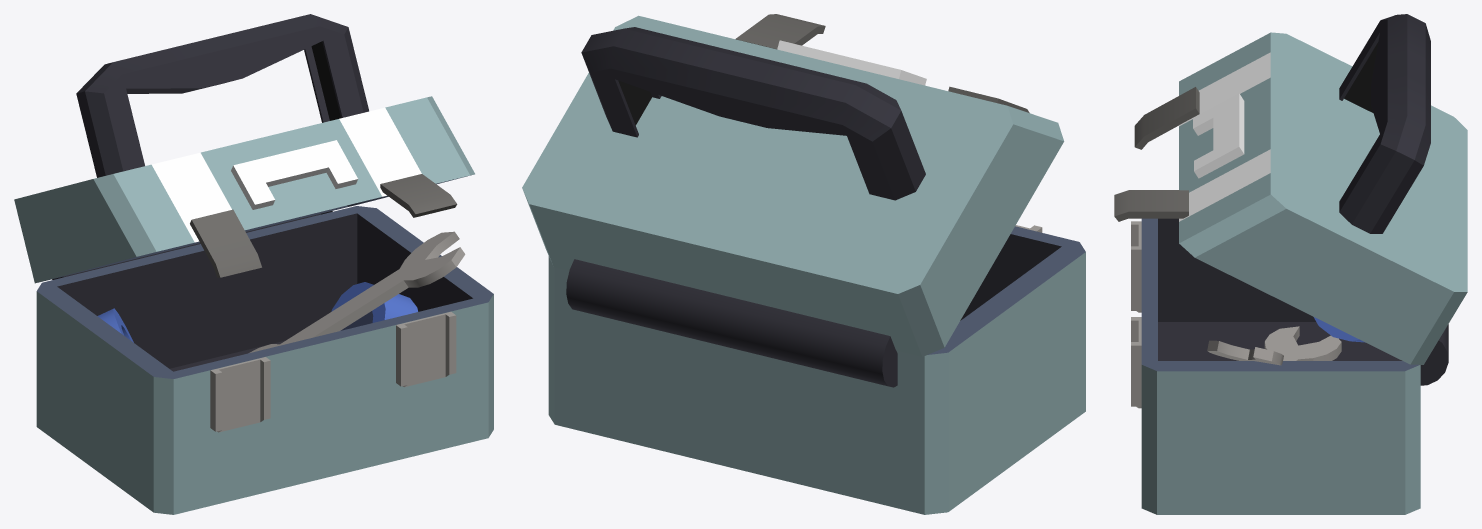
File: DRK.fbx
The picture shows the model from 3 angles, left to right: view 1: azimuth 30°, elevation 25°; view 2: azimuth 150°, elevation 25°; view 3: azimuth 270°, elevation 25°; orthographic projection. The views are drawn at different scales.
Parts seen in each view (by area): view 1: MeshDRK; view 2: MeshDRK; view 3: MeshDRK.
Boxes of the visible parts, left/top/right/bottom form: MeshDRK: left=14, top=14, right=493, bottom=514; MeshDRK: left=522, top=14, right=1085, bottom=514; MeshDRK: left=1114, top=14, right=1467, bottom=514.
Bounding box in the file's own units: 308 × 289 × 253.
